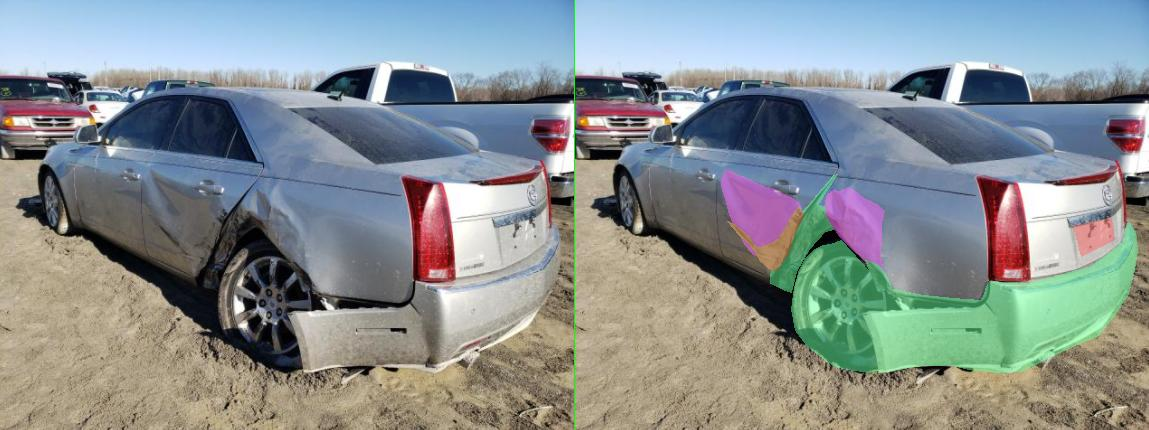Broken part: (574, 222, 1125, 372), (432, 240, 681, 372), (390, 174, 554, 292), (581, 260, 637, 295)
Dent: (292, 169, 454, 263), (500, 187, 619, 271)
Missing part: (997, 218, 1079, 256)
Paint chip: (304, 206, 456, 270)
